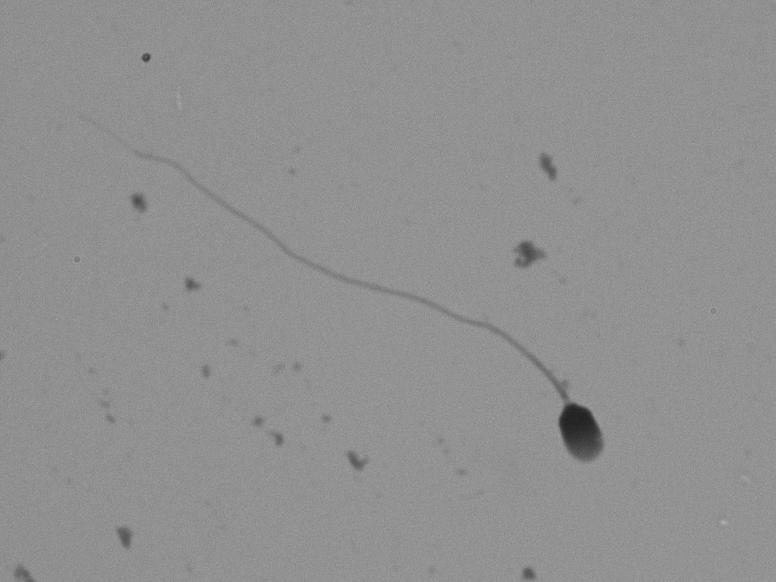Normal: (80, 107, 627, 485)
